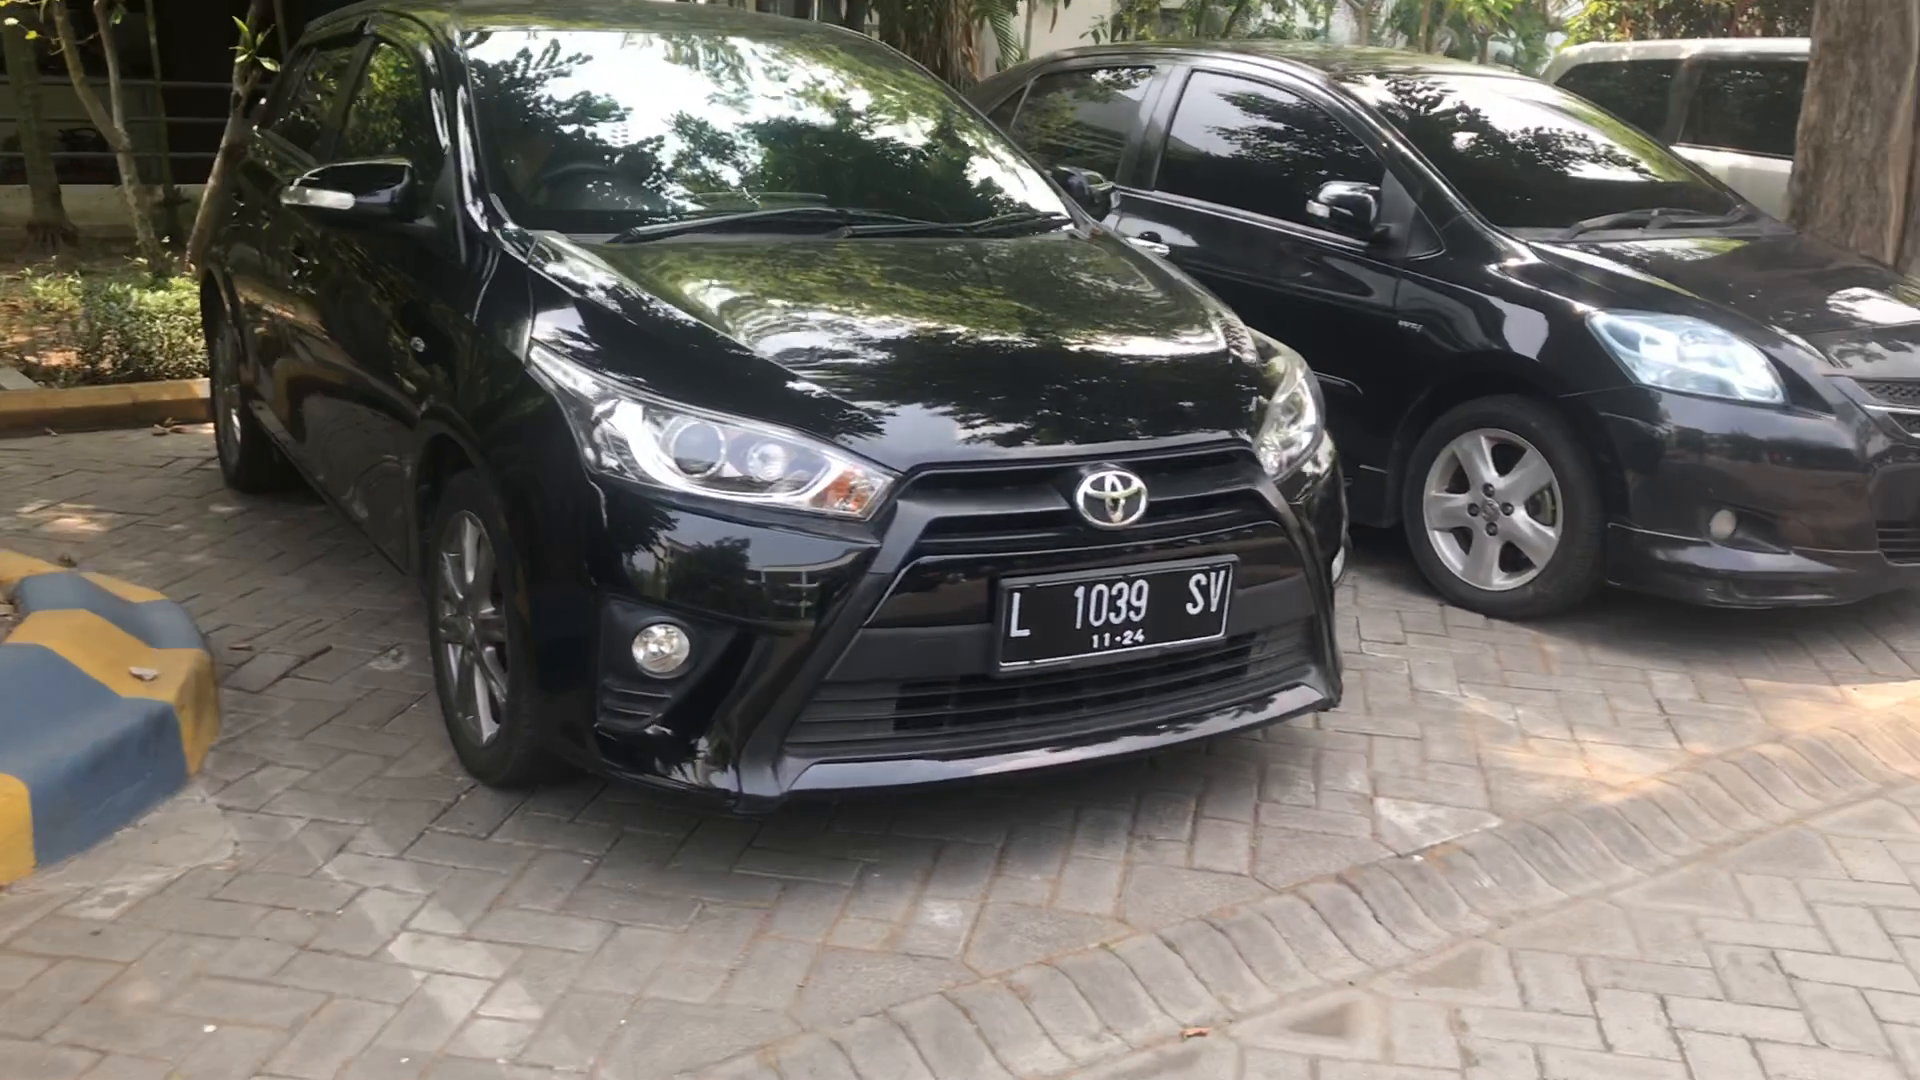plate: (1002, 557, 1230, 662)
